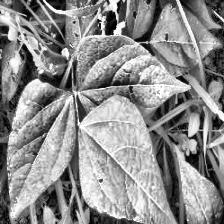ALS: (73, 96, 173, 224), (75, 29, 189, 133), (5, 81, 76, 217)
